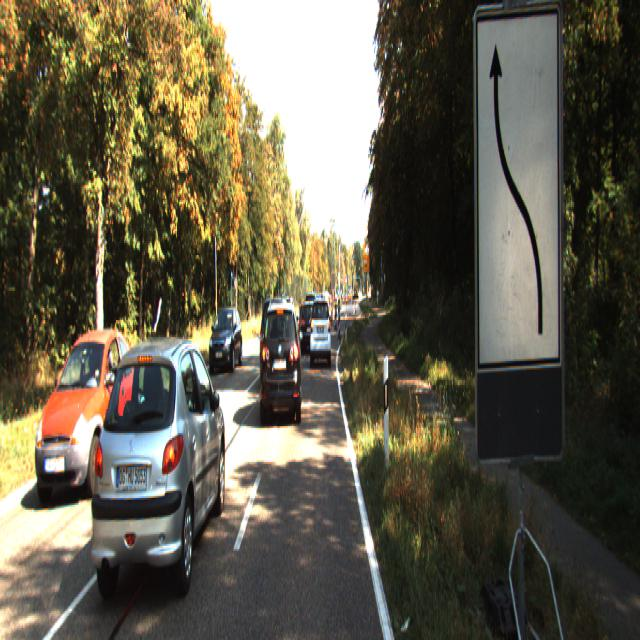Car: (86, 327, 226, 614), (38, 326, 143, 502), (260, 297, 302, 423), (259, 294, 292, 385), (207, 302, 242, 372), (310, 295, 330, 362), (296, 303, 316, 358)
